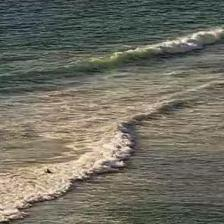surfer: (46, 168, 52, 174)
